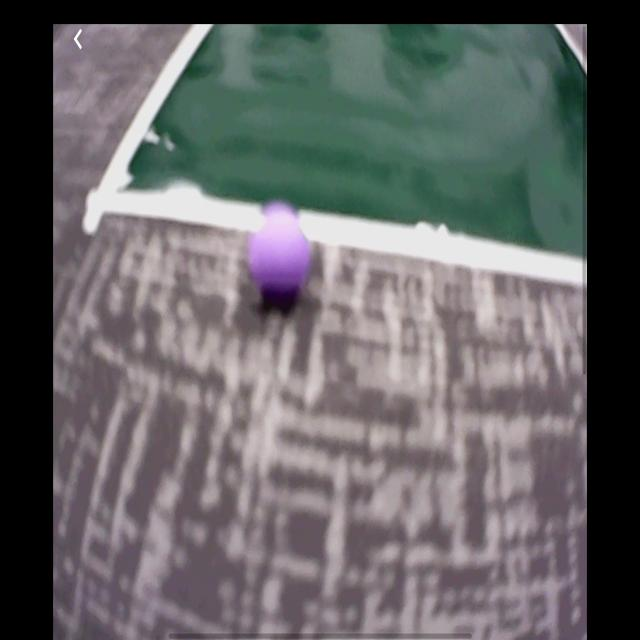ball: (248, 200, 313, 312)
